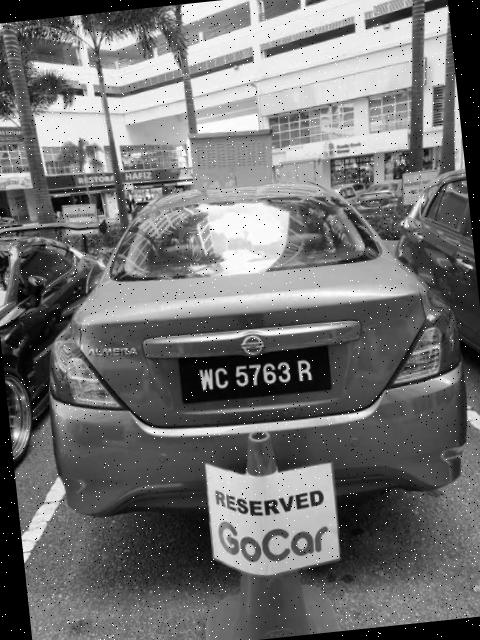License_Plate: (178, 342, 334, 407)
car: (28, 163, 479, 535)
